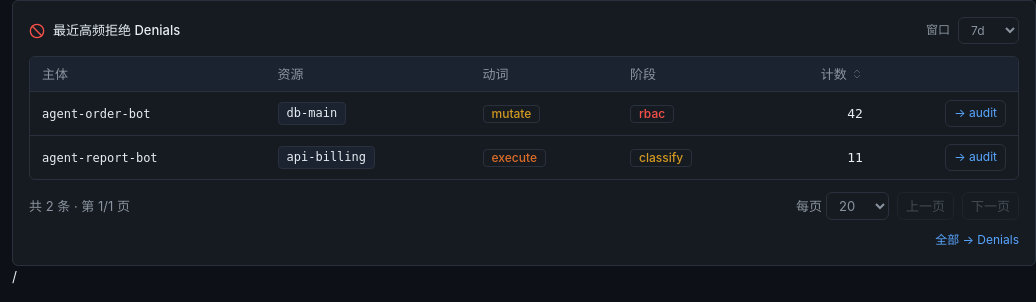
Test: DenialsTopTable › row [→ audit] navigates to Audit prefilled with the principal and decision=deny
Expected: the text "agent-order-bot" is shown, [42,107,150,121]
Click the button "→ audit" in the row of "agent-order-bot" at (976, 114), box [945,100,1006,127]
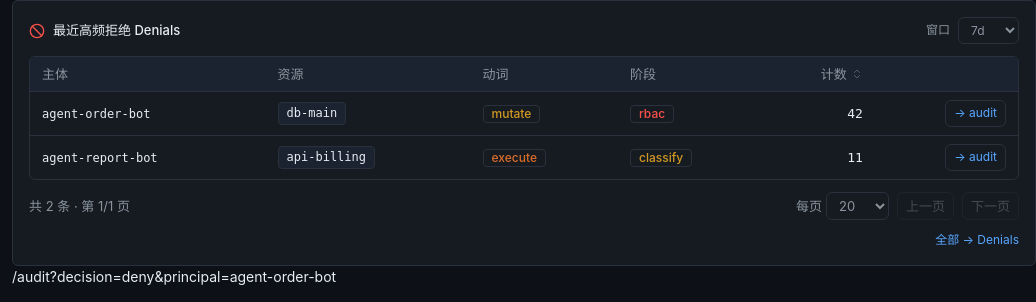
Result: the text with test id "location" shows "decision=deny" at [12,268,336,285]
Result: the text with test id "location" shows "principal=agent-order-bot" at [12,268,336,285]
